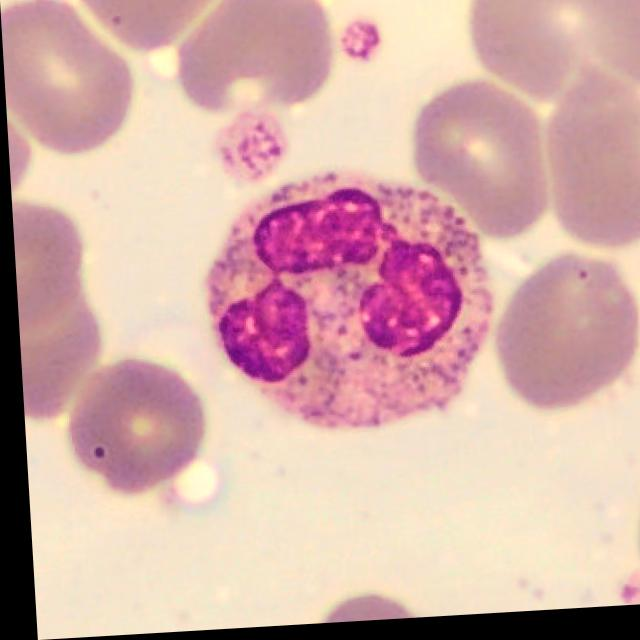Neutrofilo segmentado: (199, 168, 490, 435)
